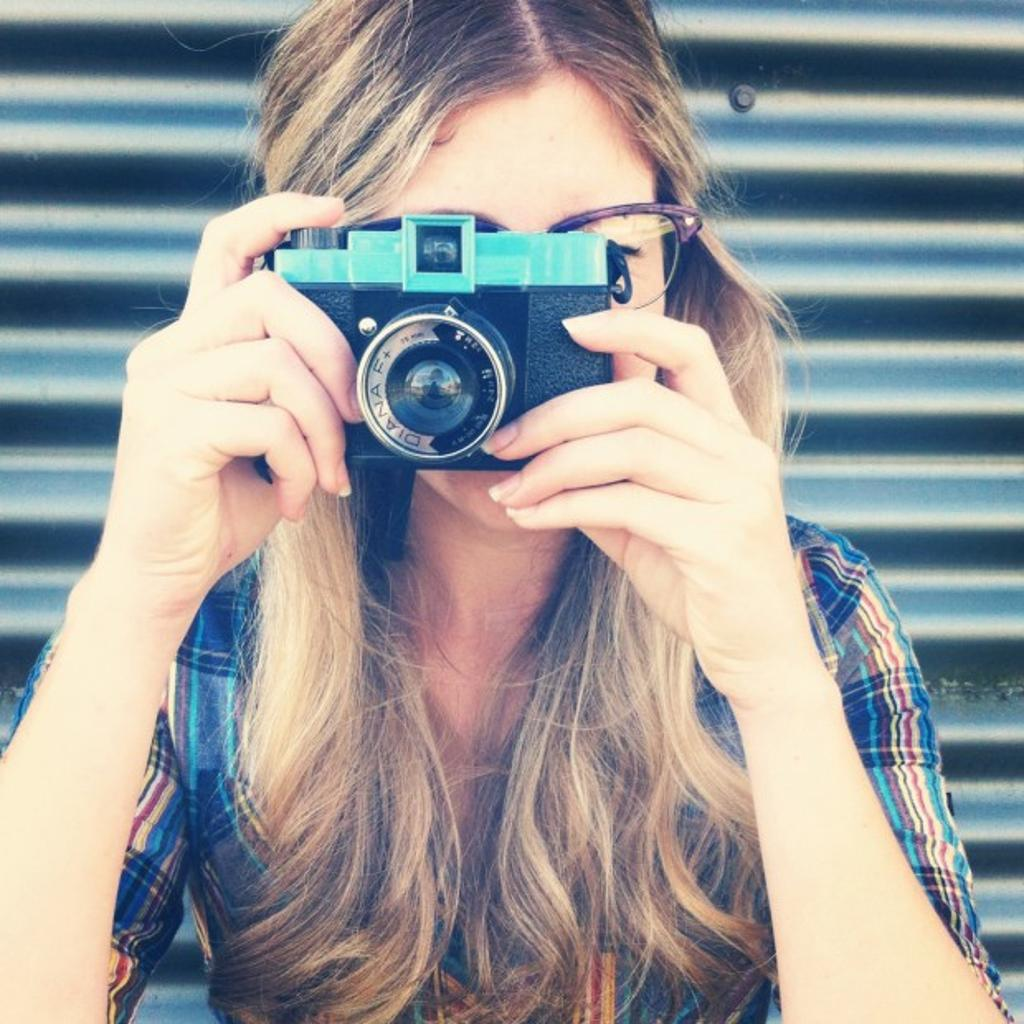face: (344, 100, 672, 536)
